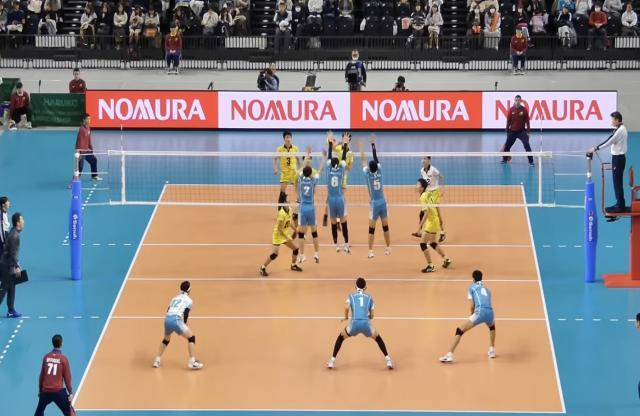block: (354, 131, 396, 264), (294, 141, 328, 266), (322, 128, 355, 254)
